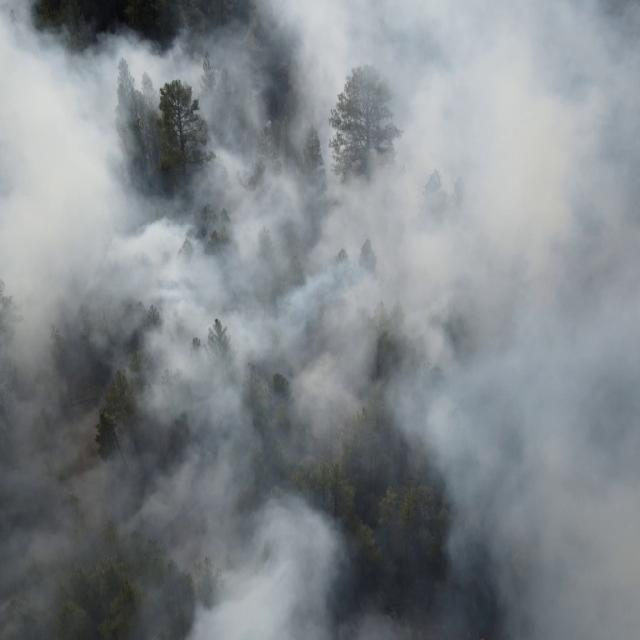smoke: (40, 26, 640, 640), (0, 0, 40, 640), (173, 0, 640, 26)
